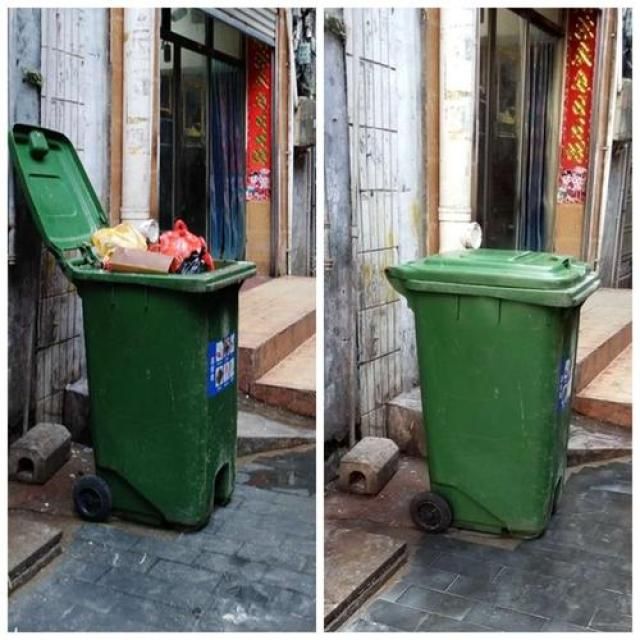garbage_bin: (384, 248, 599, 540)
overflow: (64, 217, 255, 528)
